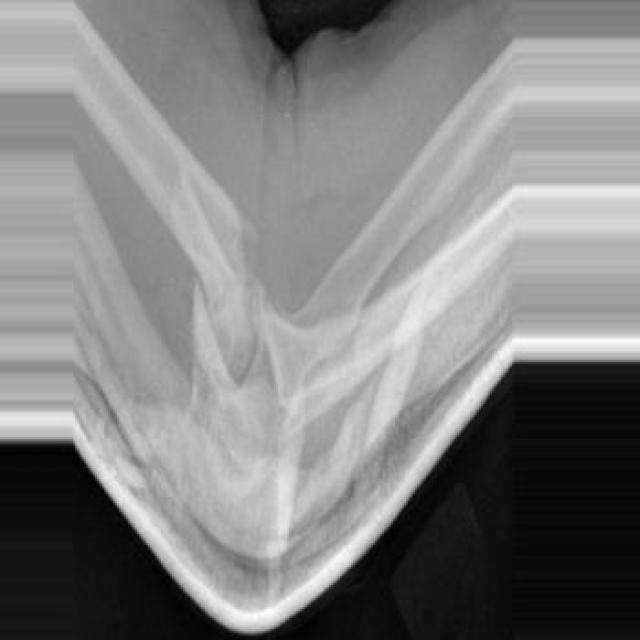Fracture: (197, 199, 268, 344)
